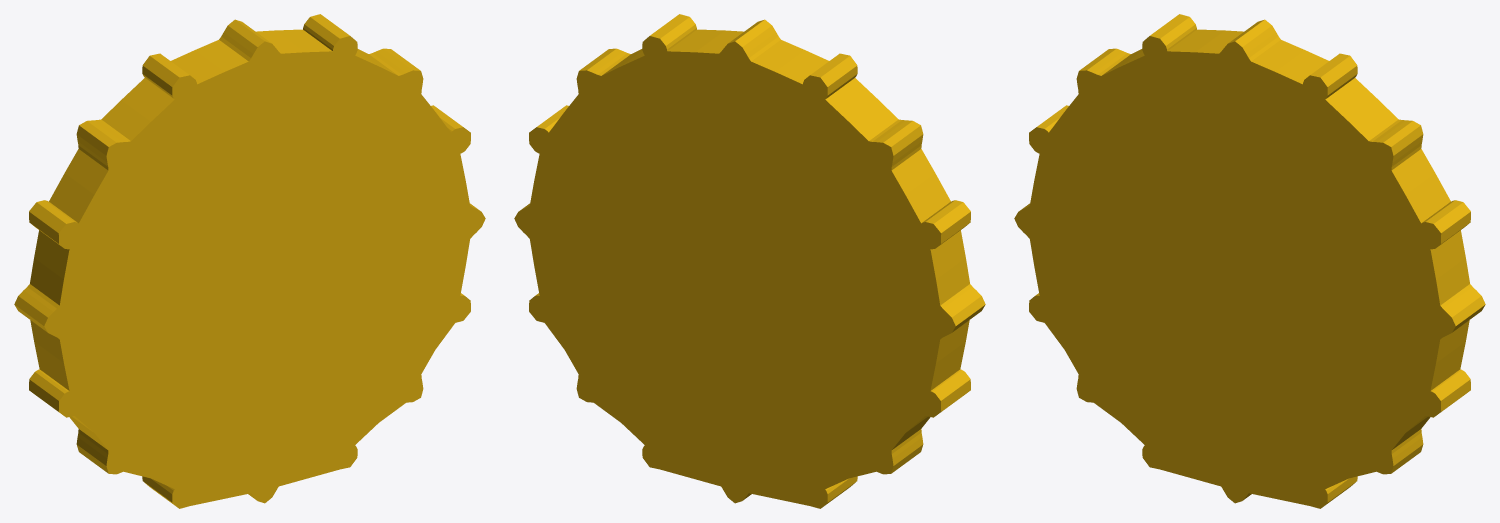
File: circle_material_0.003_lev1.glb
3 renders of one model, left to right at view 1: azimuth 30°, elevation 25°; view 2: azimuth 150°, elevation 25°; view 3: azimuth 330°, elevation 25°, orthographic.
Parts seen in each view (by area): view 1: circle_material_0.003_lev1; view 2: circle_material_0.003_lev1; view 3: circle_material_0.003_lev1.
Part boxes in pixels (left/top/right/bottom): circle_material_0.003_lev1: left=14, top=14, right=485, bottom=508; circle_material_0.003_lev1: left=514, top=14, right=985, bottom=508; circle_material_0.003_lev1: left=1014, top=14, right=1485, bottom=508.
Bounding box in the file's own units: 1.23 × 1.23 × 0.1439.
